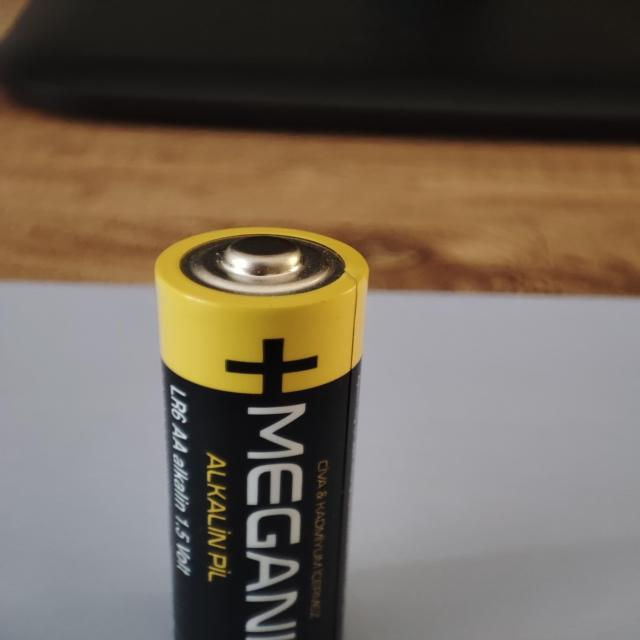AA: (153, 225, 370, 639)
